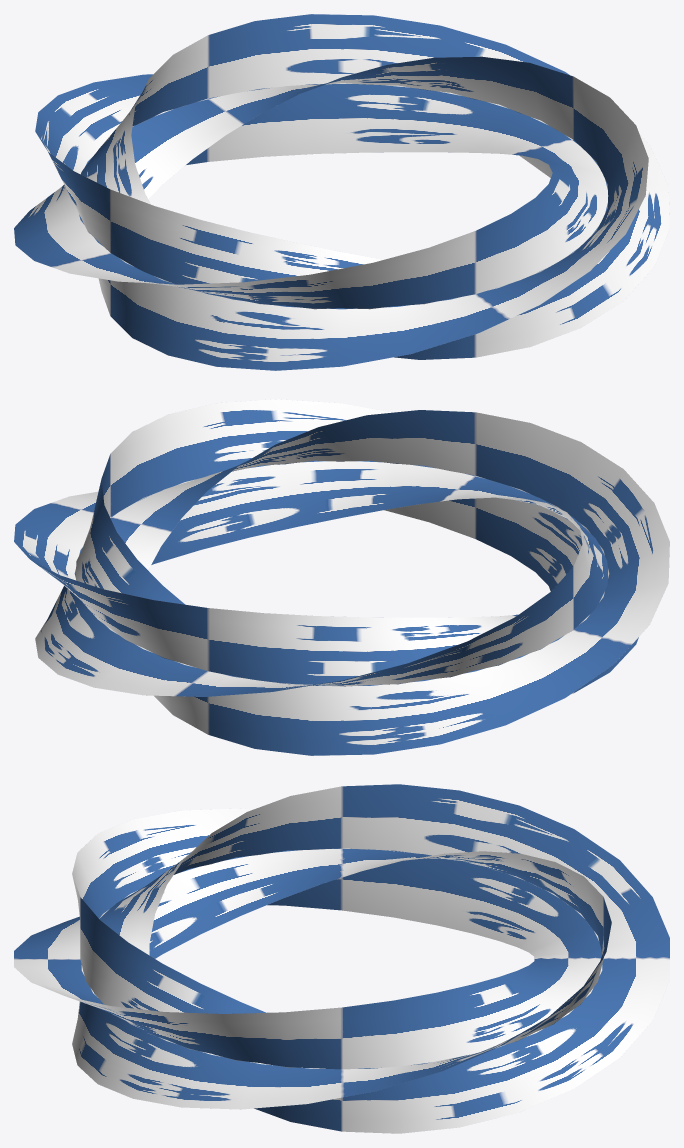
The model's file is Shinobu_Ring1.fbx.
3 views of the same model, one above another, from view 1: azimuth 30°, elevation 25°; view 2: azimuth 150°, elevation 25°; view 3: azimuth 270°, elevation 25° (orthographic). The views are drawn at different scales.
Visible parts, largest first — view 1: SM_e_Plc_P0011_Ring001; view 2: SM_e_Plc_P0011_Ring001; view 3: SM_e_Plc_P0011_Ring001.
Part boxes in pixels (x1,y1,x2,y2): SM_e_Plc_P0011_Ring001: (14, 14, 669, 370); SM_e_Plc_P0011_Ring001: (14, 399, 669, 755); SM_e_Plc_P0011_Ring001: (14, 784, 669, 1133).
Size of the model in its own units: 718 by 150 by 718.
